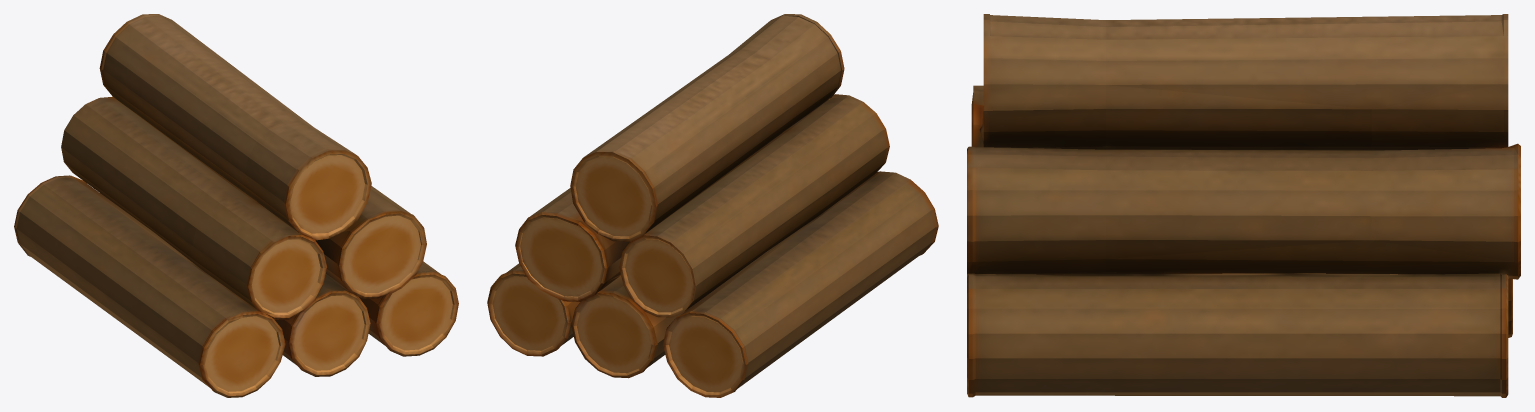
3 views of the same model, side by side, from view 1: azimuth 30°, elevation 25°; view 2: azimuth 150°, elevation 25°; view 3: azimuth 270°, elevation 25° (orthographic). The views are drawn at different scales.
Visible parts, largest first — view 1: texture_pbr_v128; view 2: texture_pbr_v128; view 3: texture_pbr_v128.
Part boxes in pixels (<box>): texture_pbr_v128: <box>14,14,458,397</box>; texture_pbr_v128: <box>487,14,938,397</box>; texture_pbr_v128: <box>967,14,1520,397</box>.
Bounding box in the file's own units: 0.6837 × 0.5657 × 0.9039.
1 material, 1 textured.
